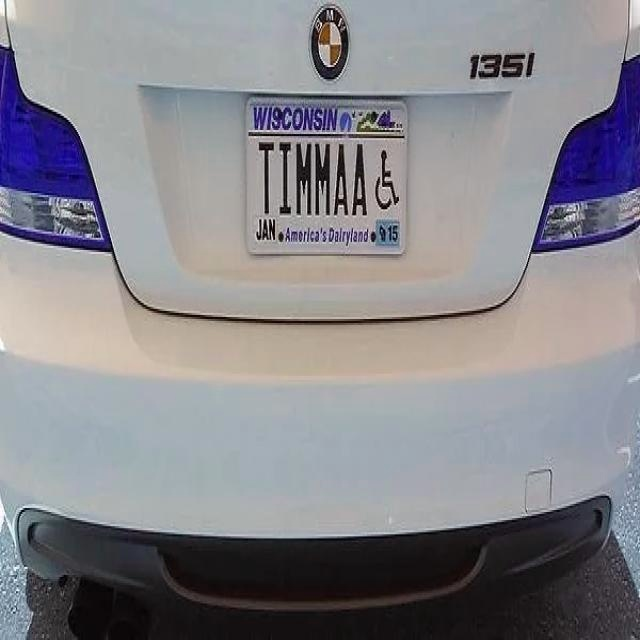ISA: (372, 144, 400, 216)
